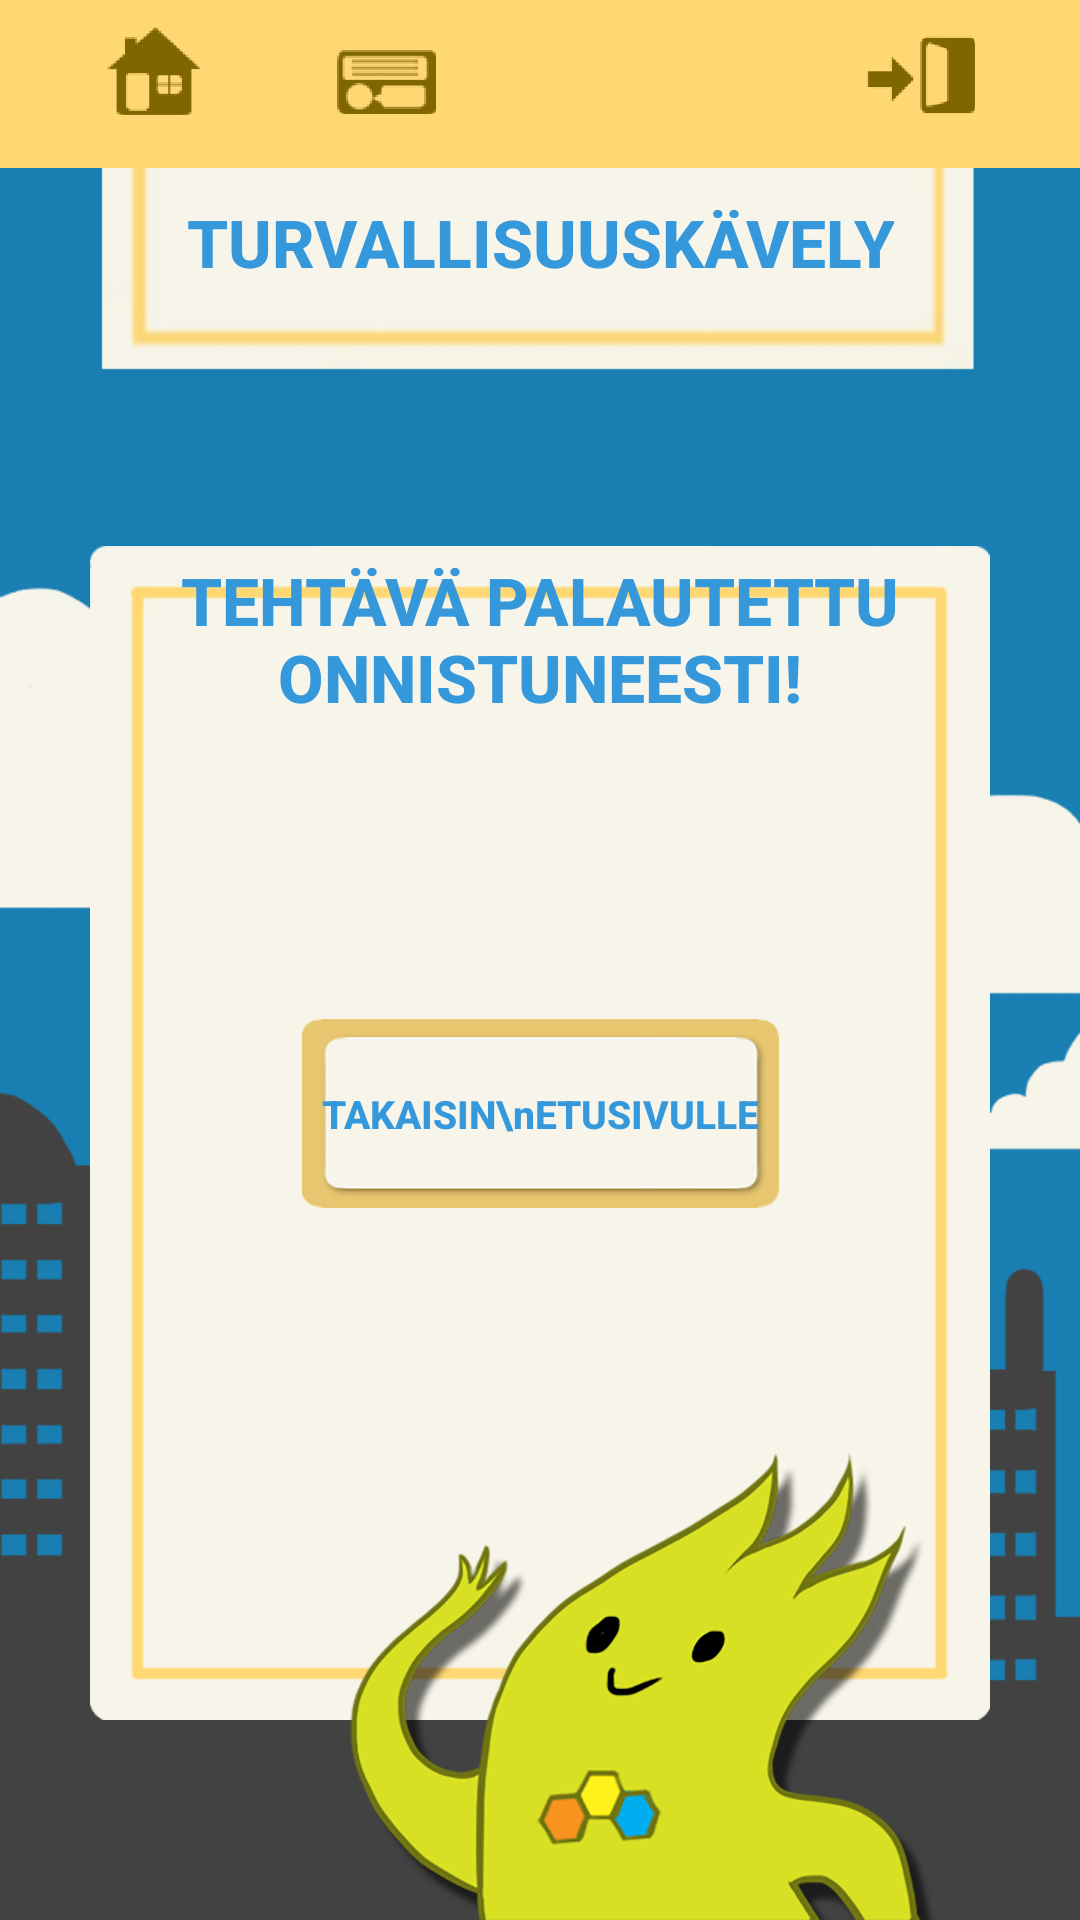

Point at icon controls on the screen. Image size 1080px x 1920px, points as point (x, y).
feedbackicon: point (386, 82)
homeicon: point (154, 71)
